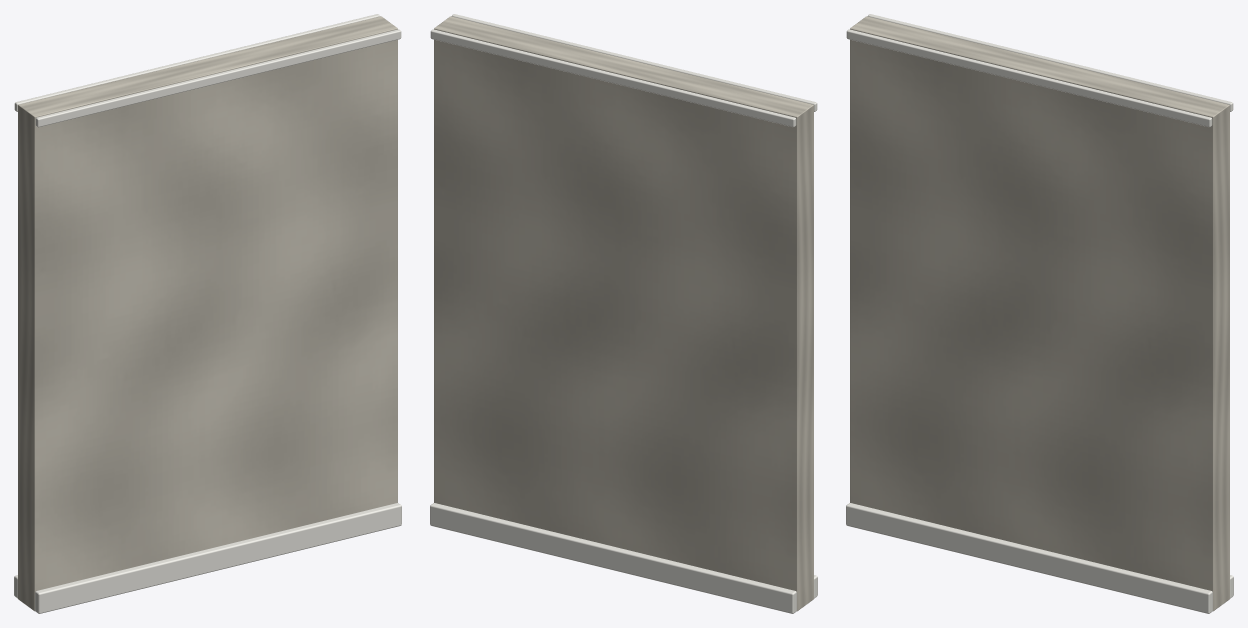
The model's file is paranormal-investigation-house-interior-wall-5d98c80e__26694.glb.
The picture shows the model from 3 angles, left to right: view 1: azimuth 30°, elevation 25°; view 2: azimuth 150°, elevation 25°; view 3: azimuth 330°, elevation 25°; orthographic projection.
Visible parts, largest first — view 1: interior-wall; view 2: interior-wall; view 3: interior-wall.
Part boxes in pixels (x1=…): interior-wall: x1=14, y1=14, x2=401, y2=613; interior-wall: x1=430, y1=14, x2=817, y2=613; interior-wall: x1=846, y1=14, x2=1233, y2=613.
Bounding box in the file's own units: 2 × 2.6 × 0.2399.
Materials: 2 (1 with a texture image).
